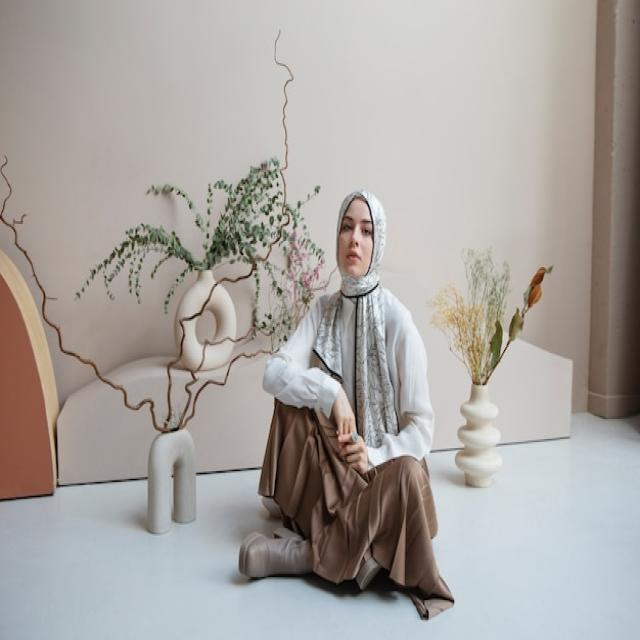Person: (240, 186, 454, 622)
